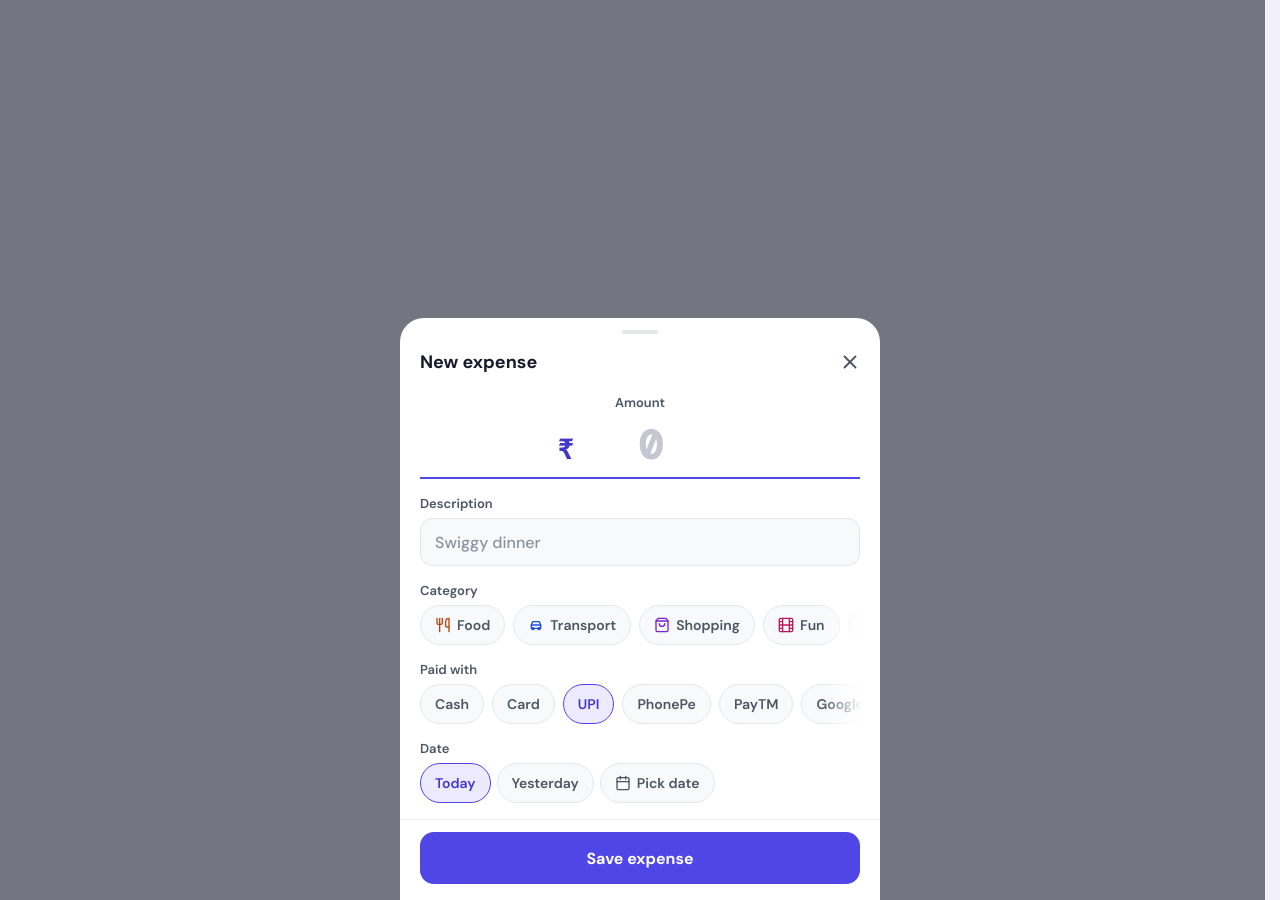
Test: add mode: asks for a category when none is picked or matched
Type "300" into the field labelled "Amount".
click(650, 445); type("300")  # box [578,419,722,471]
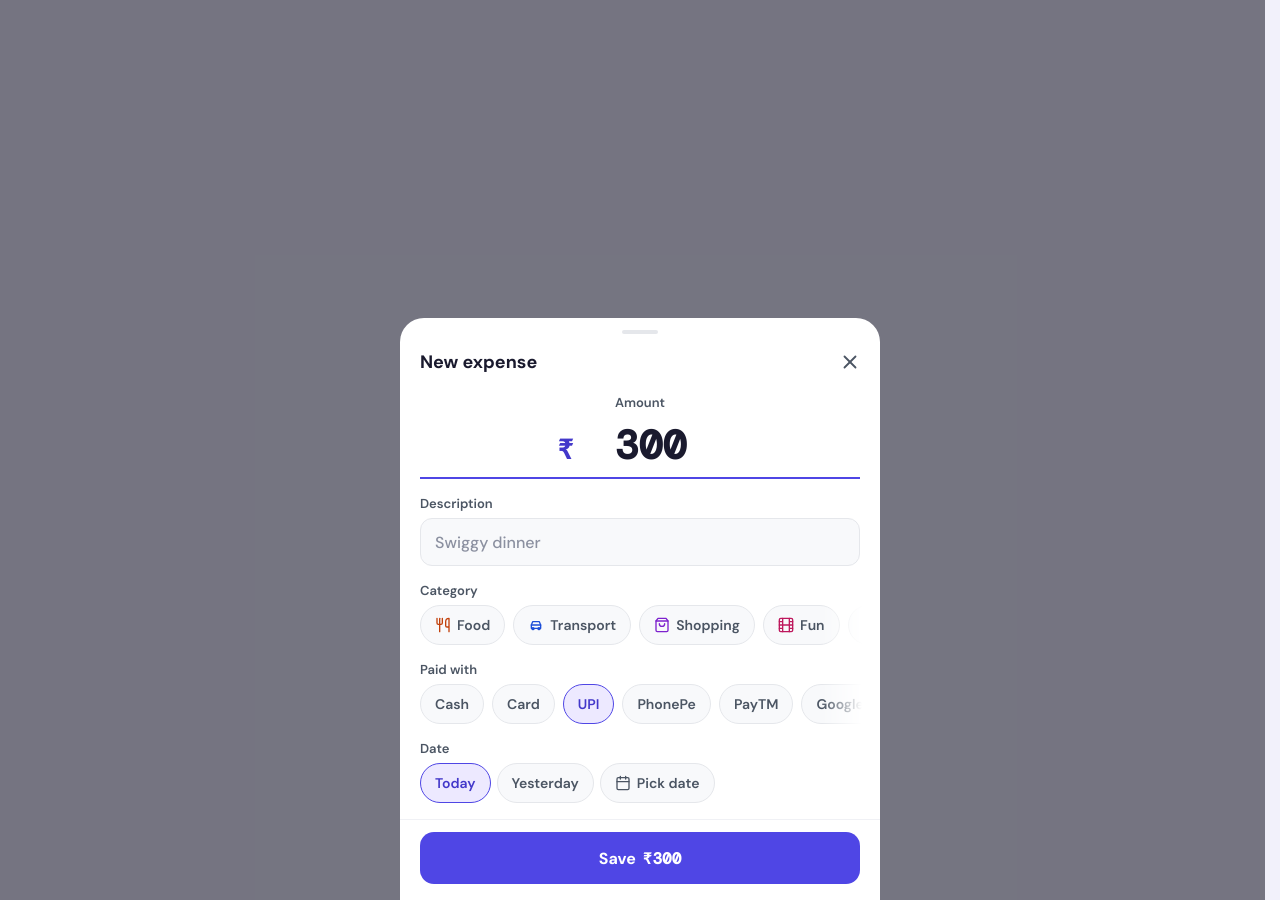
Type "Gym" into the field labelled "Description".
click(640, 542); type("Gym")  # box [420,518,860,566]
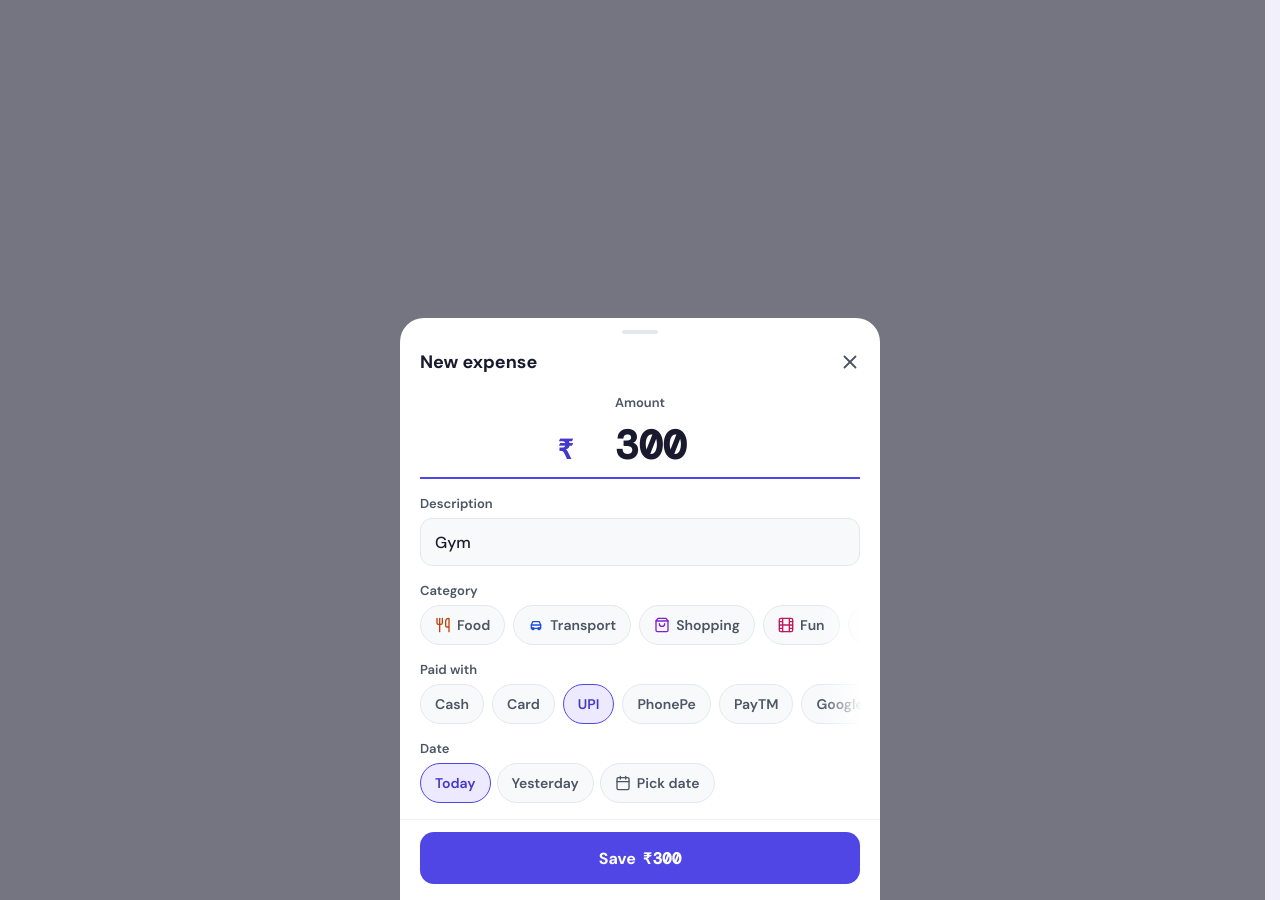
Click the button "Save ₹300".
click(640, 858)  # box [420,832,860,884]
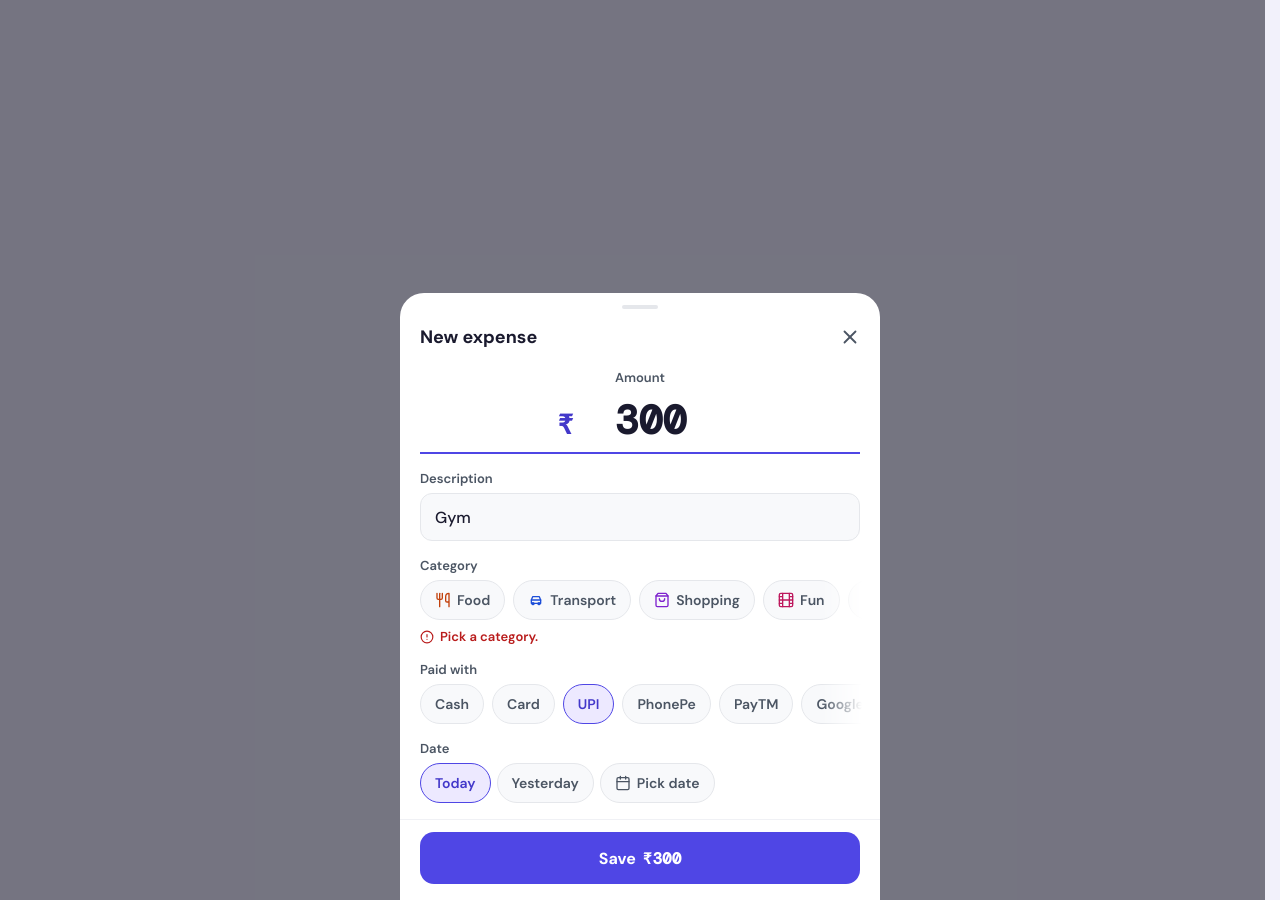
Expected: the text "Pick a category." is shown, [420,628,538,645]
